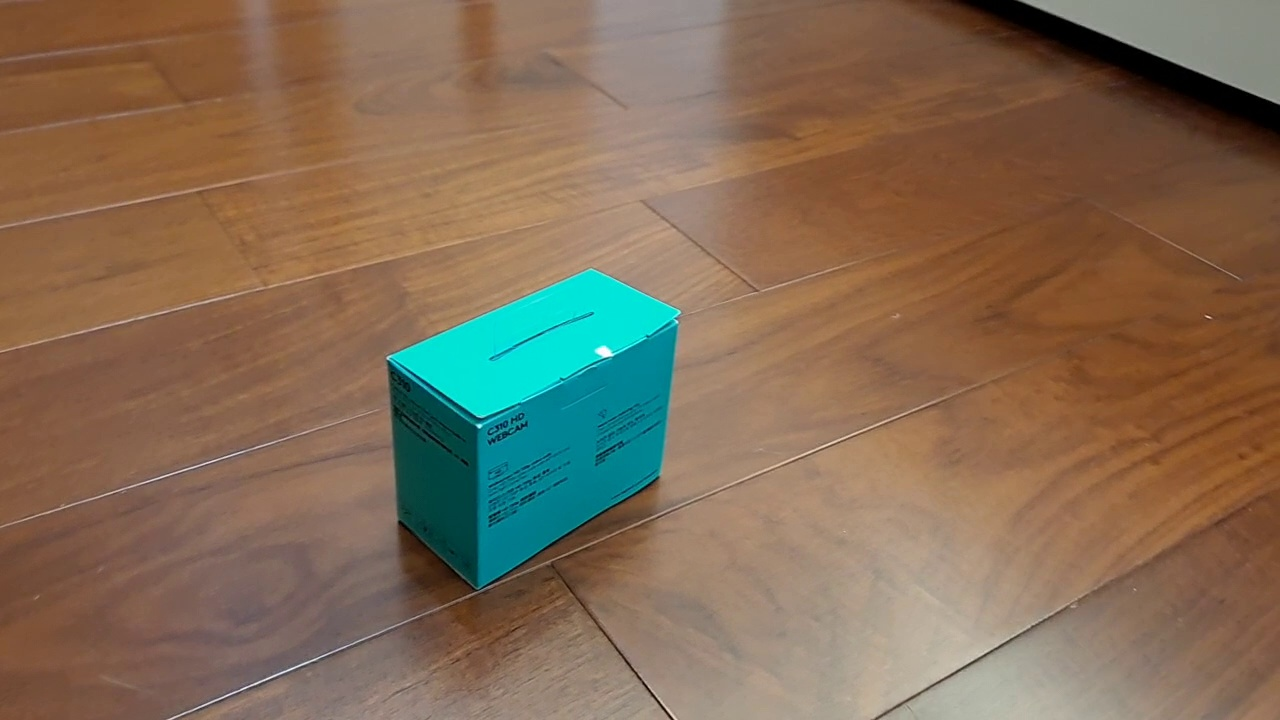webcam: (385, 266, 682, 591)
